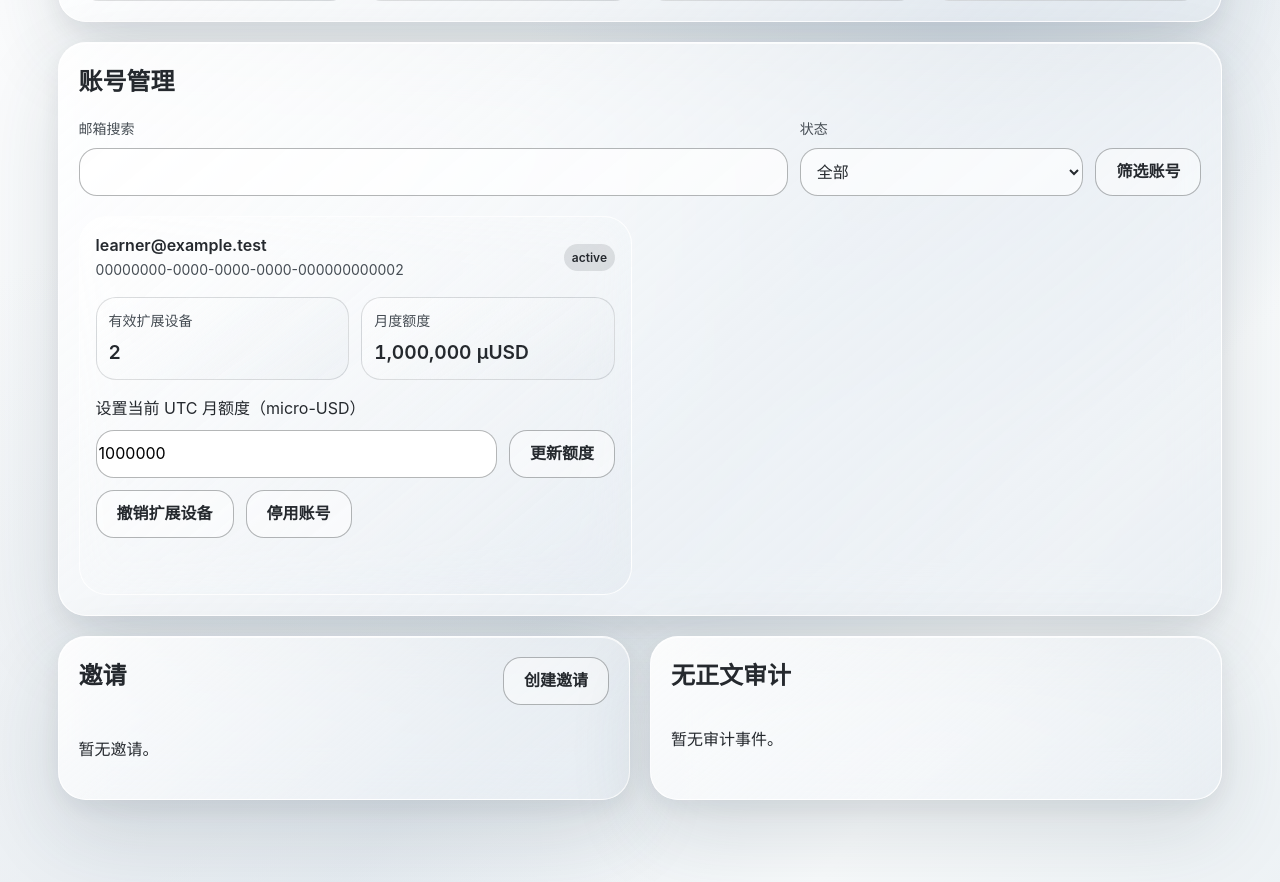
it: Admin operations page › reveals an invitation only after creation and confirms the global kill switch
This screenshot has width=1280, height=882.
(page scrolled)
Click the button "创建邀请".
click(556, 681)  # box [503, 657, 609, 705]
(page scrolled)
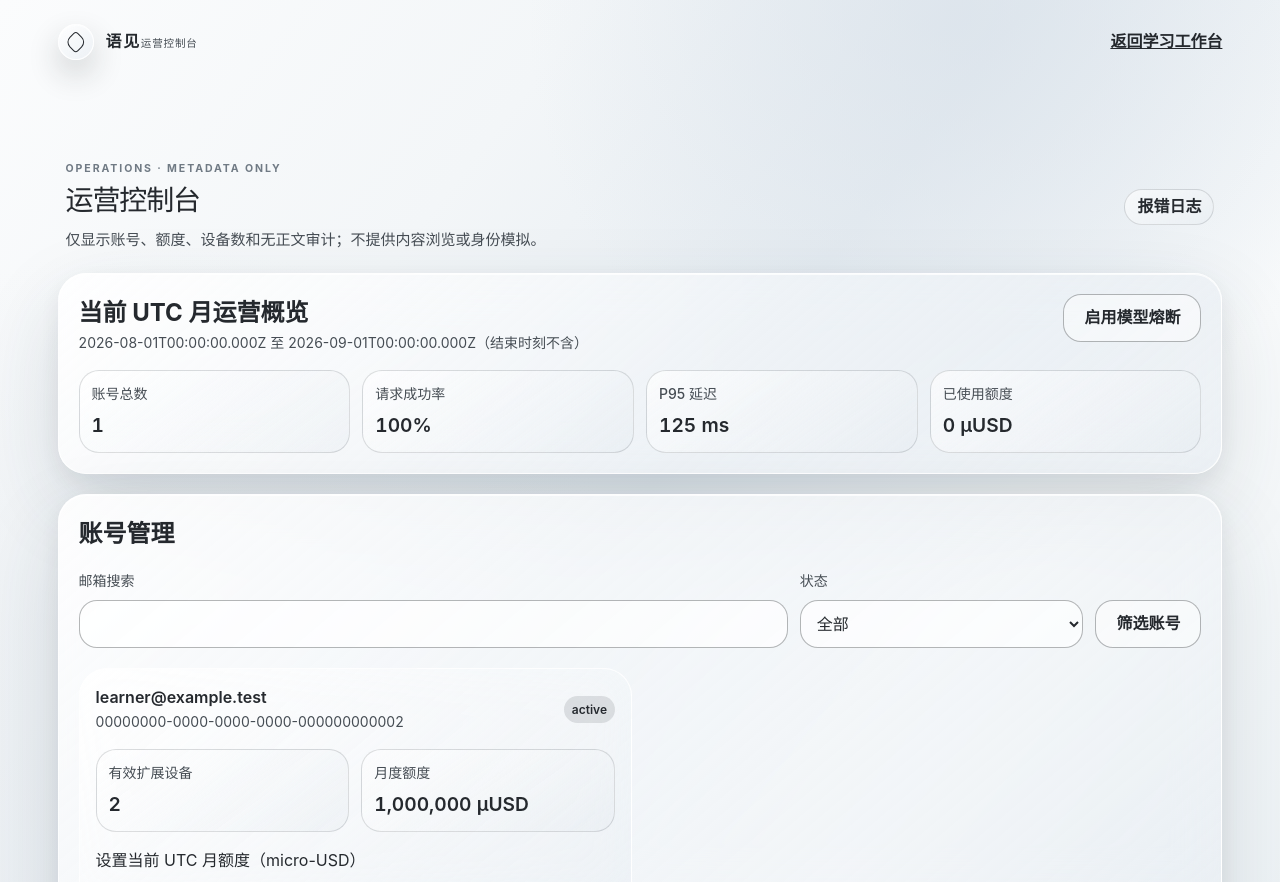
Click the button "启用模型熔断".
click(1132, 318)  # box [1063, 294, 1201, 342]
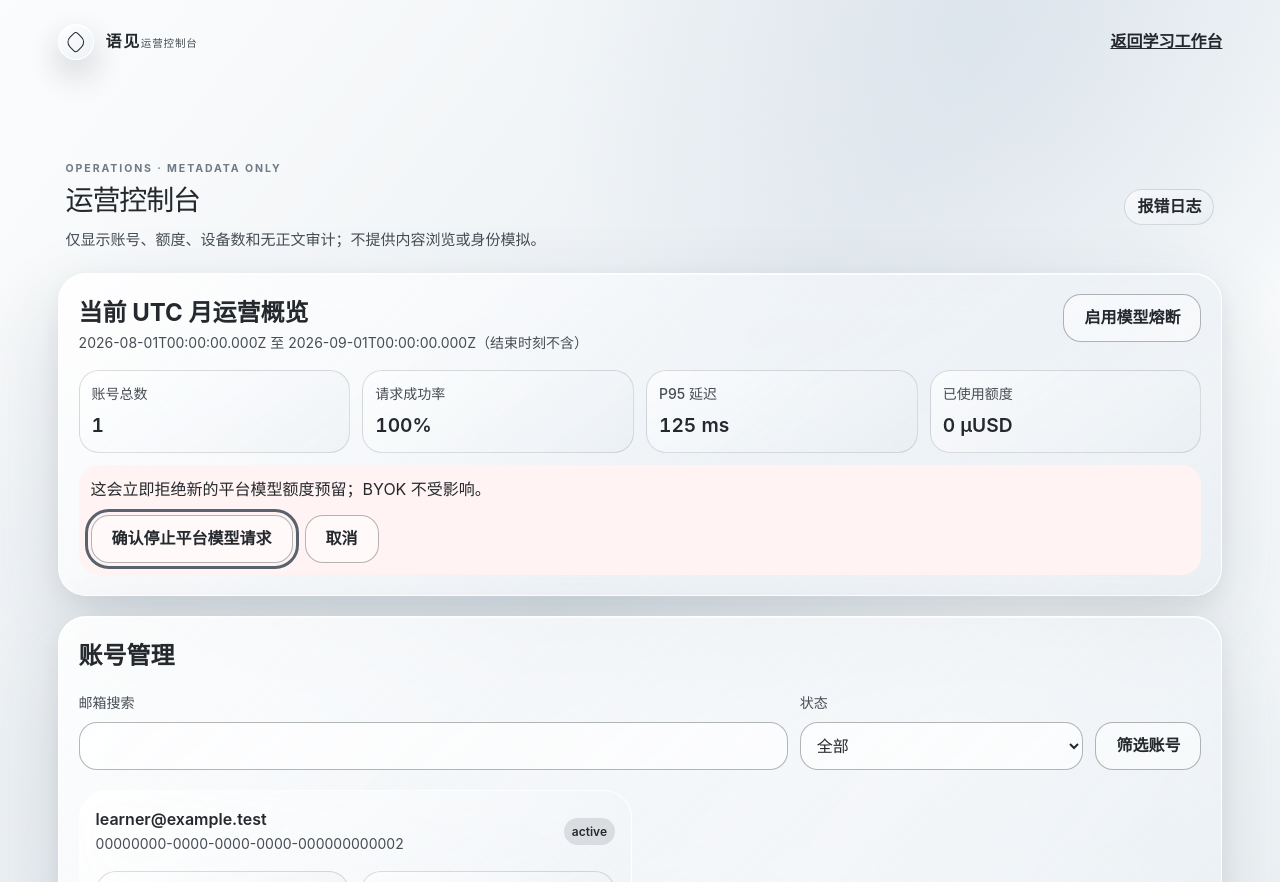
Click the button "确认停止平台模型请求".
click(192, 539)  # box [91, 515, 293, 563]
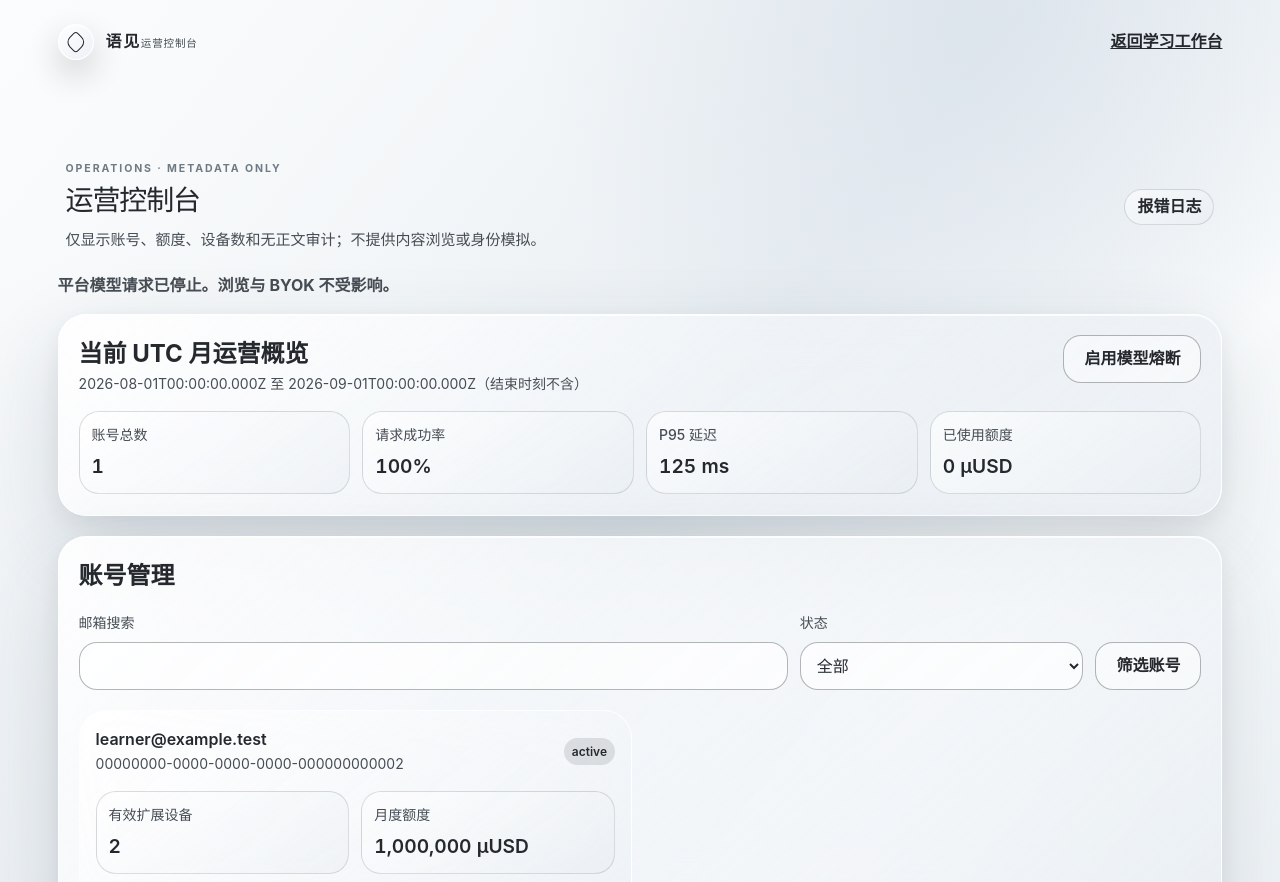
Result: the text "平台模型请求已停止。浏览与 BYOK 不受影响。" is shown at [58, 275, 399, 295]
